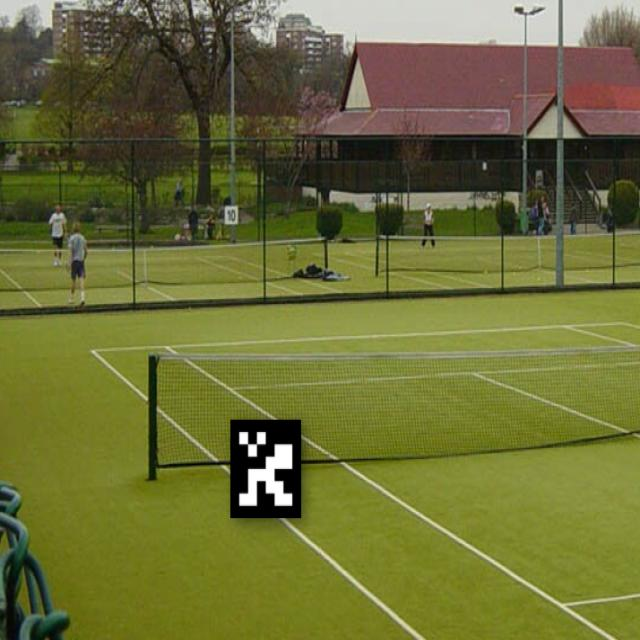marker: (223, 409, 310, 528)
